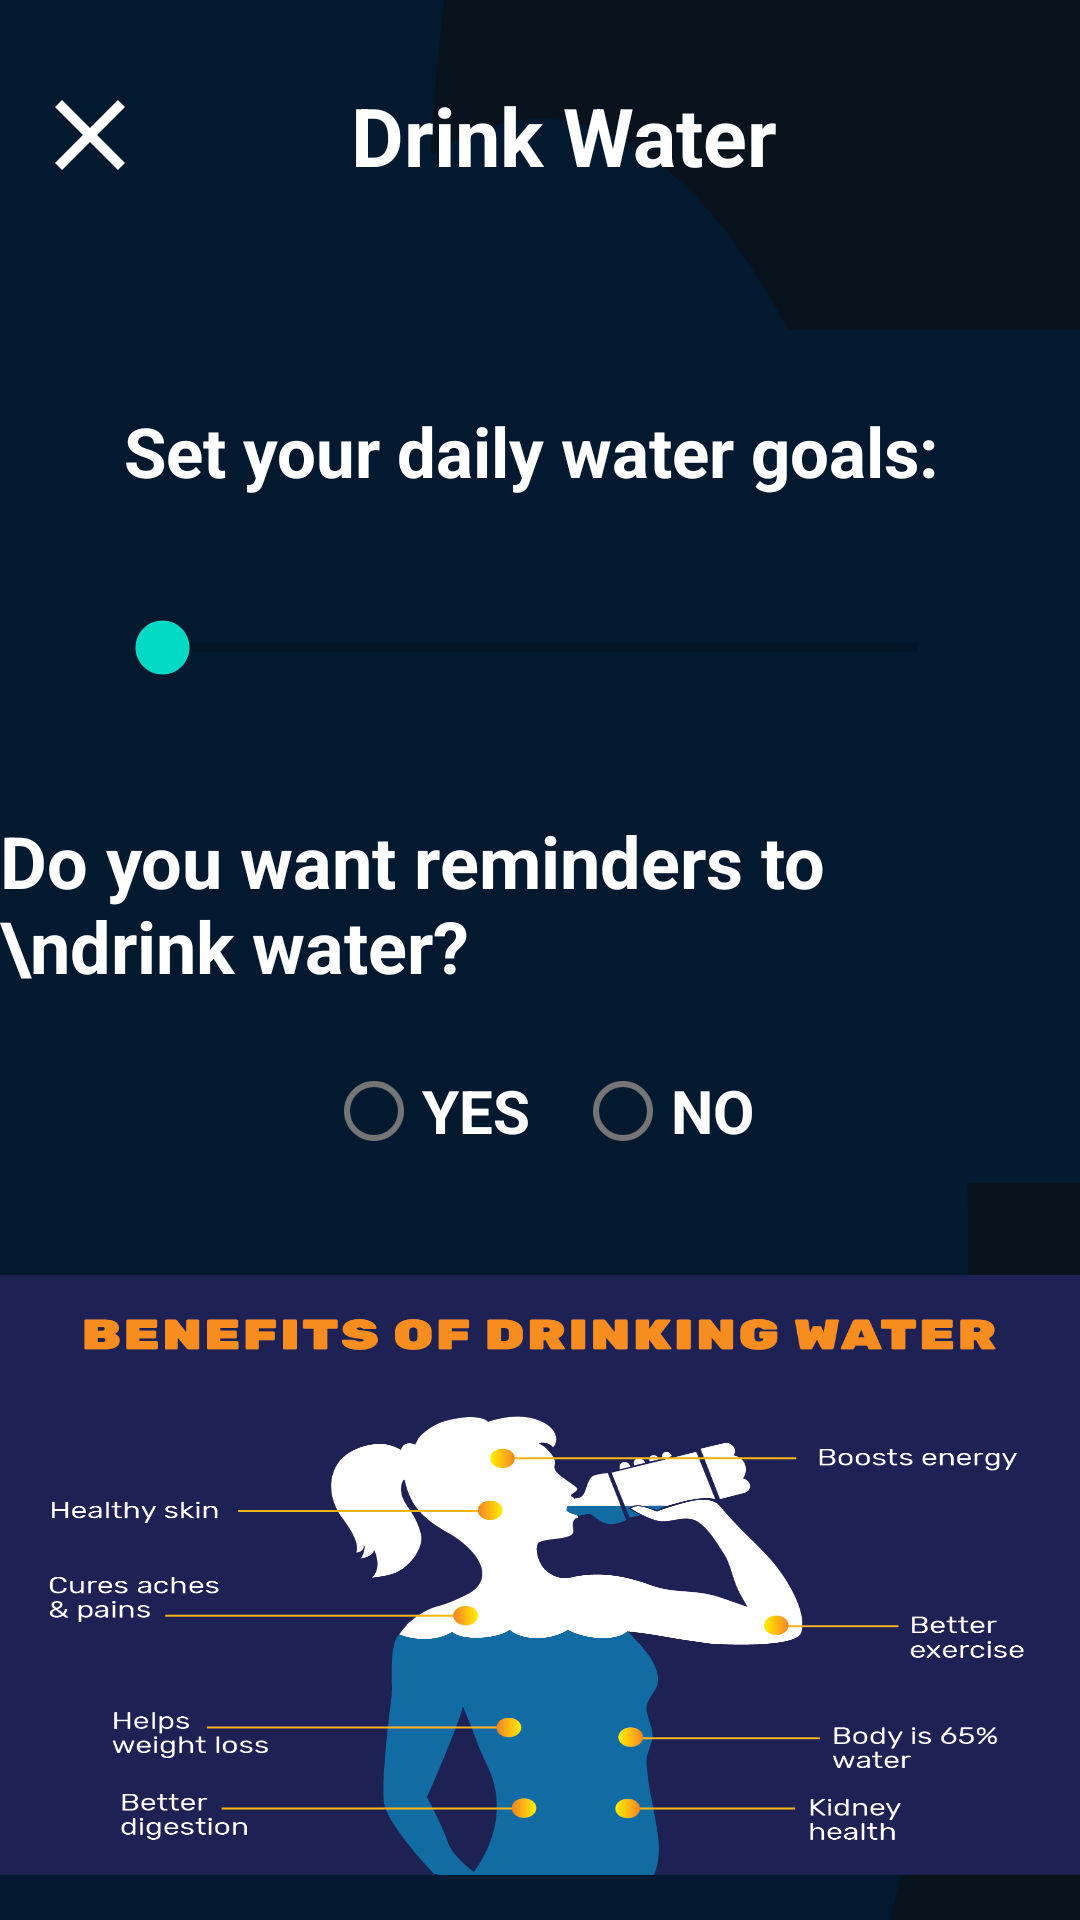

Named icons in this screenshot (1080×1920) and their bounding boxes, [x1=x1, y1=y1, x2=x2, y2=y2]:
close: [x1=55, y1=100, x2=125, y2=170]
